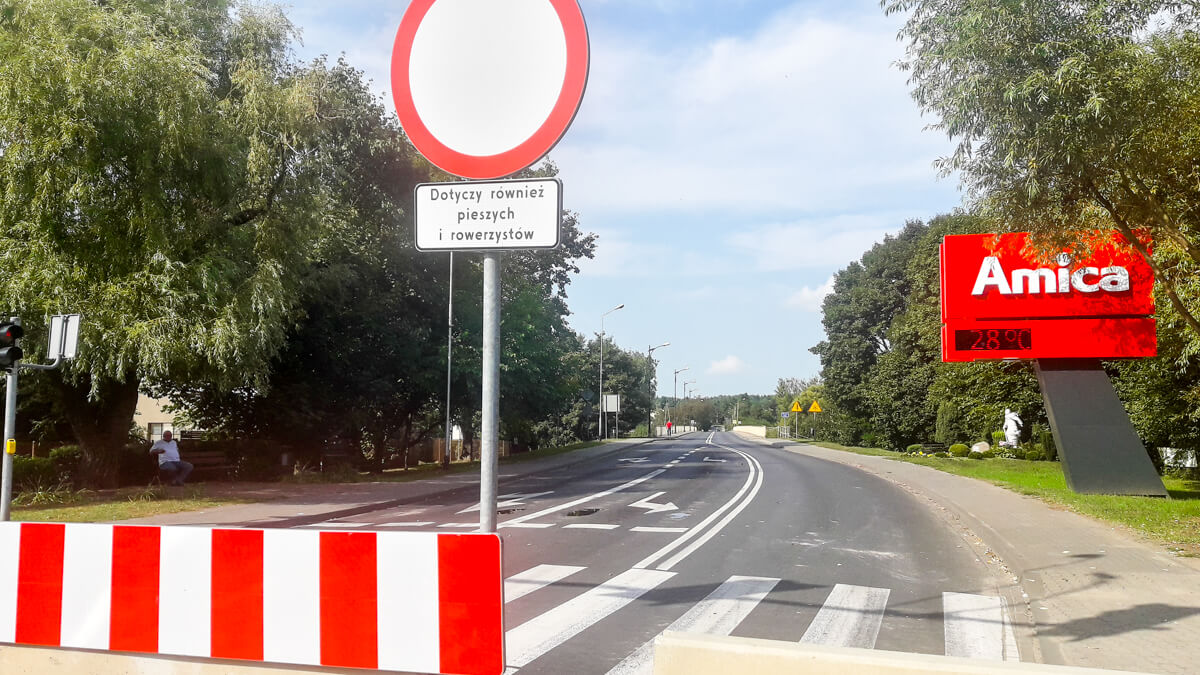no_entry_sign: (388, 1, 592, 179)
